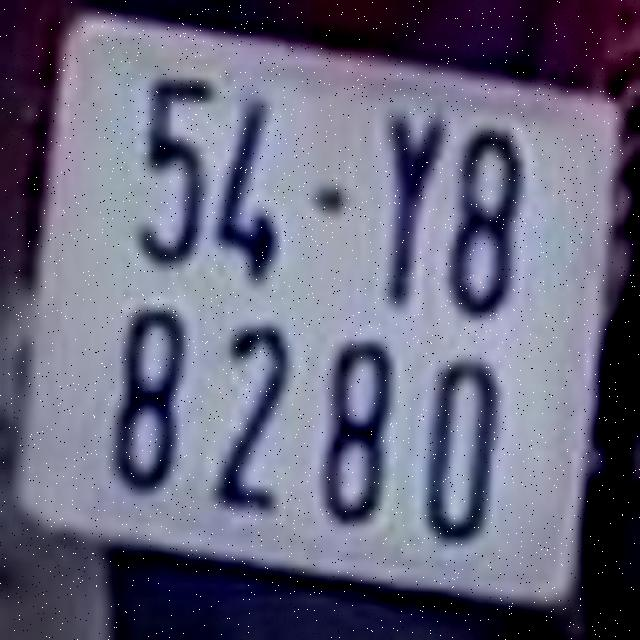0: (424, 354, 500, 543)
2: (216, 320, 285, 512)
4: (217, 93, 282, 284)
5: (135, 73, 211, 269)
8: (449, 122, 523, 318), (114, 305, 182, 494), (323, 337, 390, 526)
Y: (378, 105, 445, 312)
